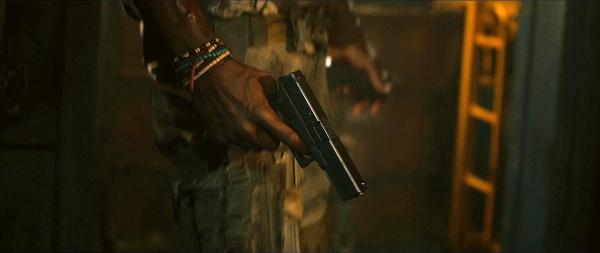Gun: (270, 71, 368, 203)
